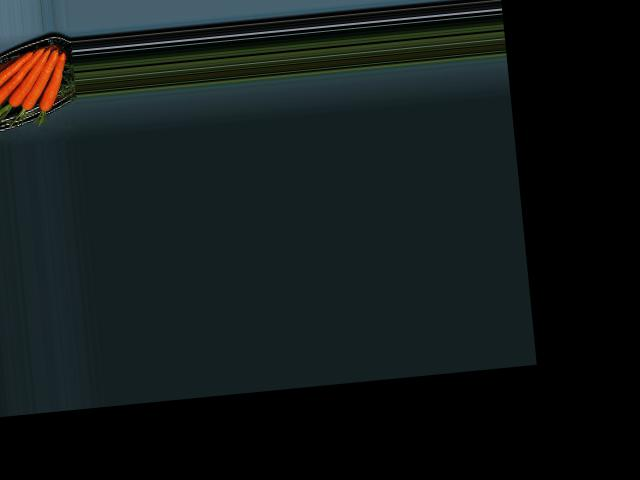carrot: (39, 51, 72, 111)
